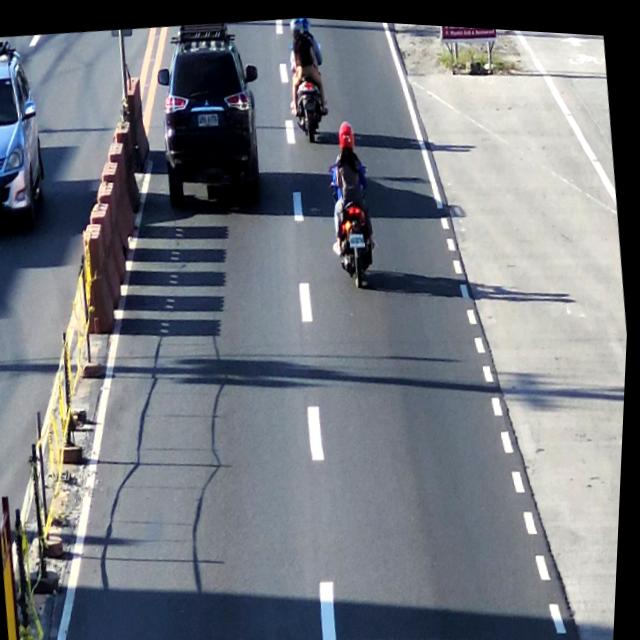Car: (149, 14, 266, 208)
License-Plate: (349, 228, 369, 248), (196, 109, 220, 125)
Motorcycle: (321, 116, 383, 284), (281, 13, 333, 139)
